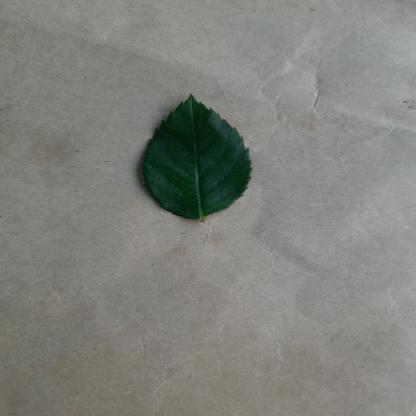normal: (136, 94, 276, 222)
